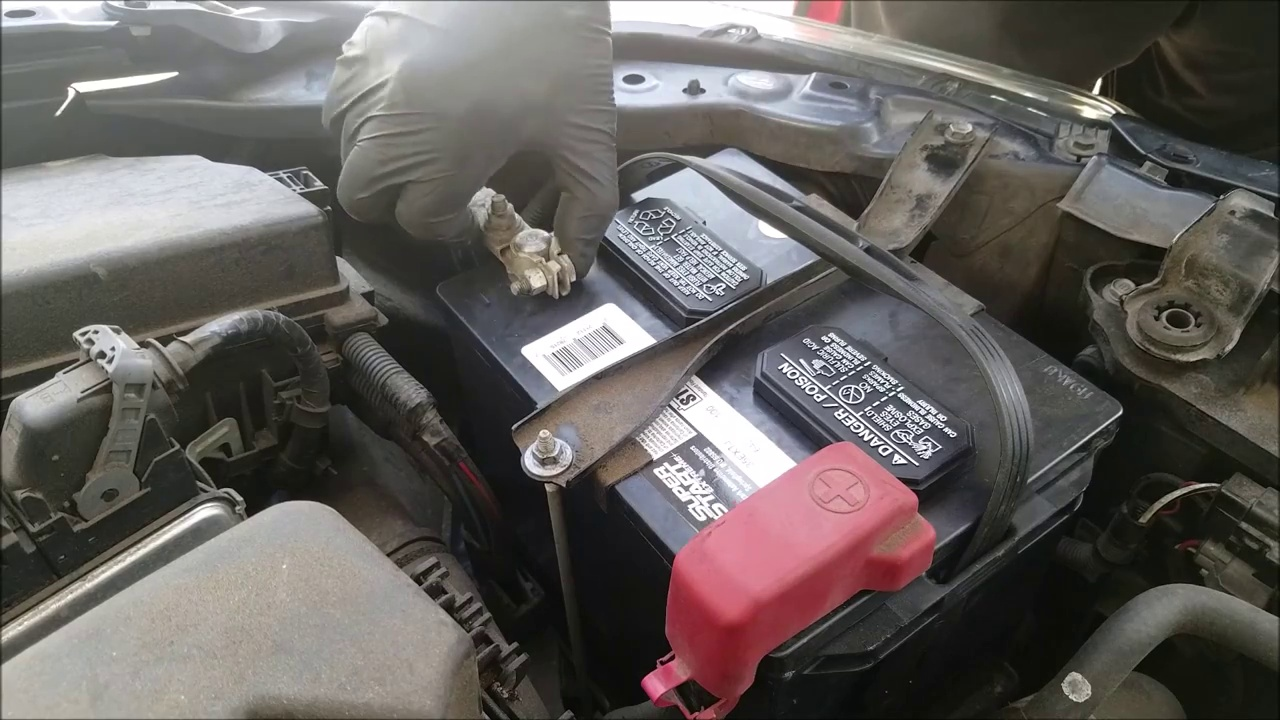battery: (455, 137, 1122, 674)
neg_connected: (443, 184, 590, 304)
neg_touched: (332, 41, 626, 318)
pos_connected: (623, 452, 959, 681)
